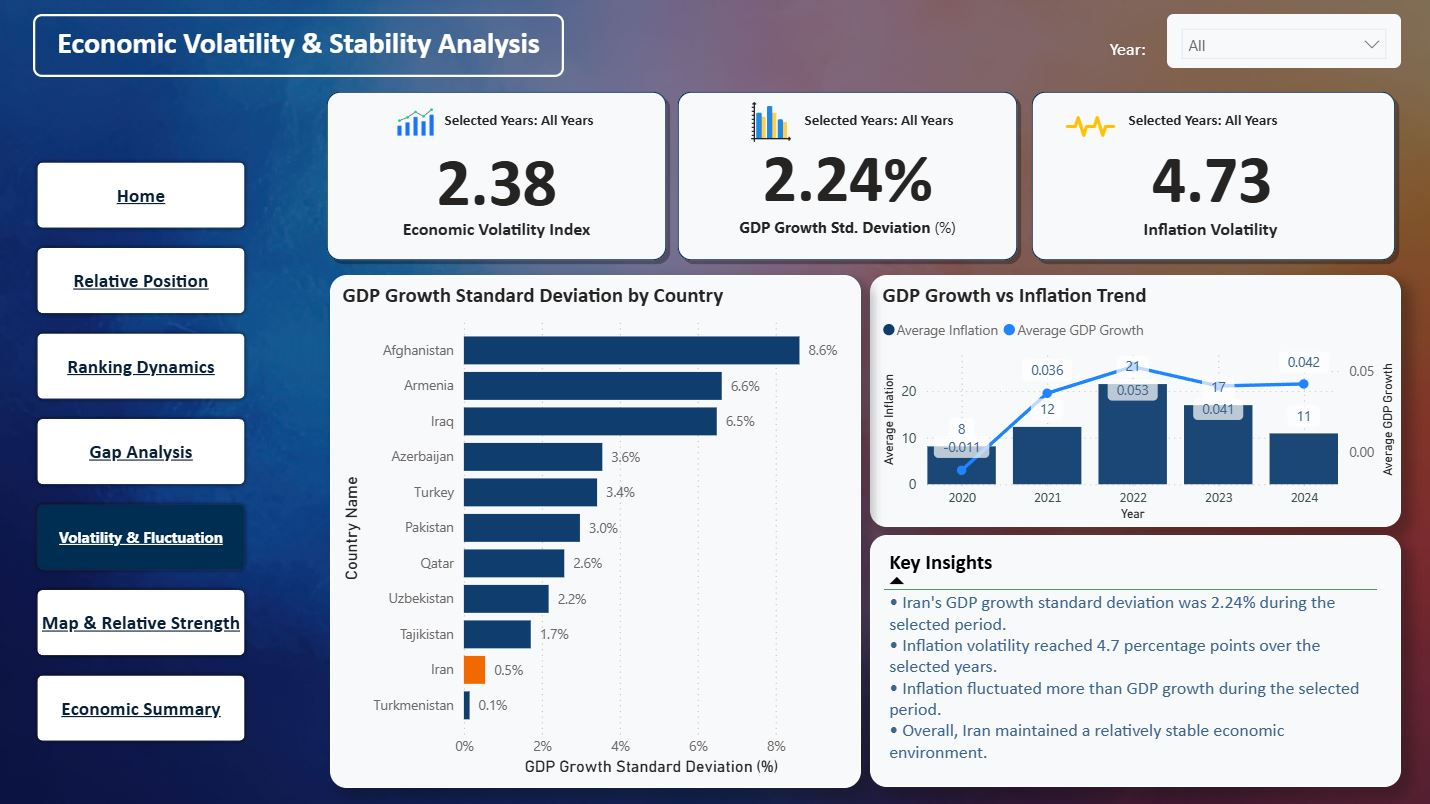

Layout of this report page (visuals, bound fields, positions):
{"tool":"powerbi","page":{"name":"Volatility & Fluctuation","canvas":[1280,720],"ordinal":4},"visuals":[{"type":"slicer","fields":{"Values":["DimDate.Year"]},"box":[1040,16,208,48],"z":0},{"type":"shape","box":[288,80,312,160],"z":0,"group":"g1"},{"type":"shape","box":[600,80,312,160],"z":0,"group":"g2"},{"type":"shape","box":[914.8,80,333.2,160],"z":0,"group":"g3"},{"type":"textbox","box":[984,32,56,32],"z":1000},{"type":"card","fields":{"Values":["Measure.GDPRank"]},"box":[528,128,240,64],"z":2000},{"type":"pageNavigator","box":[32,144,192,528],"z":3000},{"type":"textbox","box":[600,192,312,48],"z":3000,"group":"g2"},{"type":"textbox","box":[32,16,472,56],"z":4000},{"type":"textbox","box":[288,192,312,48],"z":4000,"group":"g1"},{"type":"textbox","box":[912,192,333.2,48],"z":4000,"group":"g3"},{"type":"group","id":"g1","title":"Group 1","box":[288,80,312,160],"z":5000},{"type":"group","id":"g2","title":"Group 1","box":[600,80,312,160],"z":6000},{"type":"group","id":"g3","title":"Group 1","box":[912,80,336,160],"z":7000},{"type":"lineClusteredColumnComboChart","title":"GDP Growth vs Inflation Trend","fields":{"Category":["DimDate.Year"],"Y":["Measure.AverageInflation"],"Y2":["Measure.AverageGDPGrowth"]},"box":[776,248,472,224],"z":8000},{"type":"card","fields":{"Values":["Measure.SelectedYear"]},"box":[384,80,160,64],"z":9000},{"type":"card","fields":{"Values":["Measure.SelectedYear"]},"box":[992,80,160,64],"z":10000},{"type":"card","fields":{"Values":["Measure.SelectedYear"]},"box":[704,80,160,64],"z":11000},{"type":"card","fields":{"Values":["Measure.InflationStdDev"]},"box":[968,136,224,64],"z":12000},{"type":"card","fields":{"Values":["Measure.GDPGrowthStdDev"]},"box":[640,120,232,72],"z":13000},{"type":"clusteredBarChart","title":"GDP Growth Standard Deviation by Country","fields":{"Category":["DimCountry.CountryName"],"Y":["Measure.GDPGrowthStdDev"]},"box":[296,248,472,456],"z":14000},{"type":"tableEx","title":"Key Insights and Executive Summary","fields":{"Values":["Measure.P4Insights"]},"box":[776,479.2,472,224],"z":15000},{"type":"image","box":[344,88,56,48],"z":16000},{"type":"image","box":[664,88,48,48],"z":17000},{"type":"image","box":[944,88,56,56],"z":18000},{"type":"card","fields":{"Values":["Measure.EconomicVolatilityScore"]},"box":[296,128,296,64],"z":19000}]}

Visuals, with their boxes in screenshot pixels (x1, y1, x2, y2), scaled from the page's 1280x720 canvas onto the 1430x804 screenshot:
slicer - DimDate.Year: Rect(1162, 18, 1394, 71)
shape: Rect(322, 89, 670, 268)
shape: Rect(670, 89, 1019, 268)
shape: Rect(1022, 89, 1394, 268)
textbox: Rect(1099, 36, 1162, 71)
card - Measure.GDPRank: Rect(590, 143, 858, 214)
pageNavigator: Rect(36, 161, 250, 750)
textbox: Rect(670, 214, 1019, 268)
textbox: Rect(36, 18, 563, 80)
textbox: Rect(322, 214, 670, 268)
textbox: Rect(1019, 214, 1391, 268)
"Group 1" group: Rect(322, 89, 670, 268)
"Group 1" group: Rect(670, 89, 1019, 268)
"Group 1" group: Rect(1019, 89, 1394, 268)
"GDP Growth vs Inflation Trend" lineClusteredColumnComboChart: Rect(867, 277, 1394, 527)
card - Measure.SelectedYear: Rect(429, 89, 608, 161)
card - Measure.SelectedYear: Rect(1108, 89, 1287, 161)
card - Measure.SelectedYear: Rect(786, 89, 965, 161)
card - Measure.InflationStdDev: Rect(1081, 152, 1332, 223)
card - Measure.GDPGrowthStdDev: Rect(715, 134, 974, 214)
"GDP Growth Standard Deviation by Country" clusteredBarChart: Rect(331, 277, 858, 786)
"Key Insights and Executive Summary" tableEx: Rect(867, 535, 1394, 785)
image: Rect(384, 98, 447, 152)
image: Rect(742, 98, 795, 152)
image: Rect(1055, 98, 1117, 161)
card - Measure.EconomicVolatilityScore: Rect(331, 143, 661, 214)
